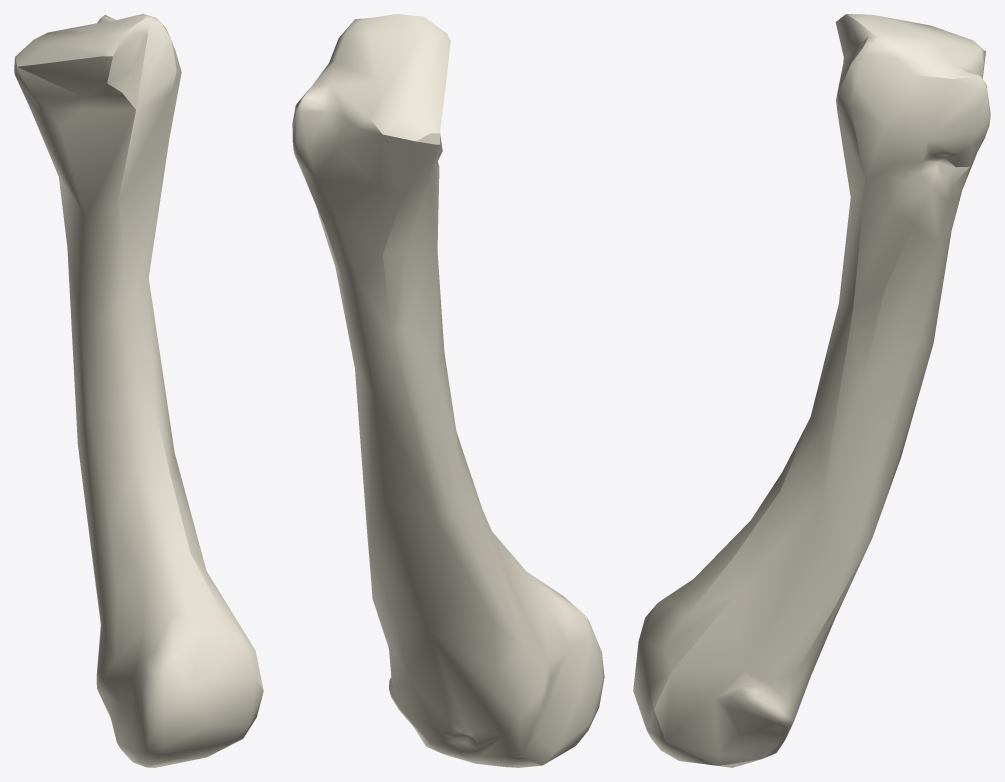
Rendered from fma24471_fj3249.glb.
3 renders of one model, left to right at view 1: azimuth 30°, elevation 25°; view 2: azimuth 150°, elevation 25°; view 3: azimuth 270°, elevation 25°, orthographic. The views are drawn at different scales.
Visible parts, largest first — view 1: FMA24471_FJ3249; view 2: FMA24471_FJ3249; view 3: FMA24471_FJ3249.
Part boxes in pixels (x1,y1,x2,y2): FMA24471_FJ3249: (14,14,263,767); FMA24471_FJ3249: (292,14,604,767); FMA24471_FJ3249: (633,14,990,767).
Bounding box in the file's own units: 0.0124 × 0.06 × 0.026.
